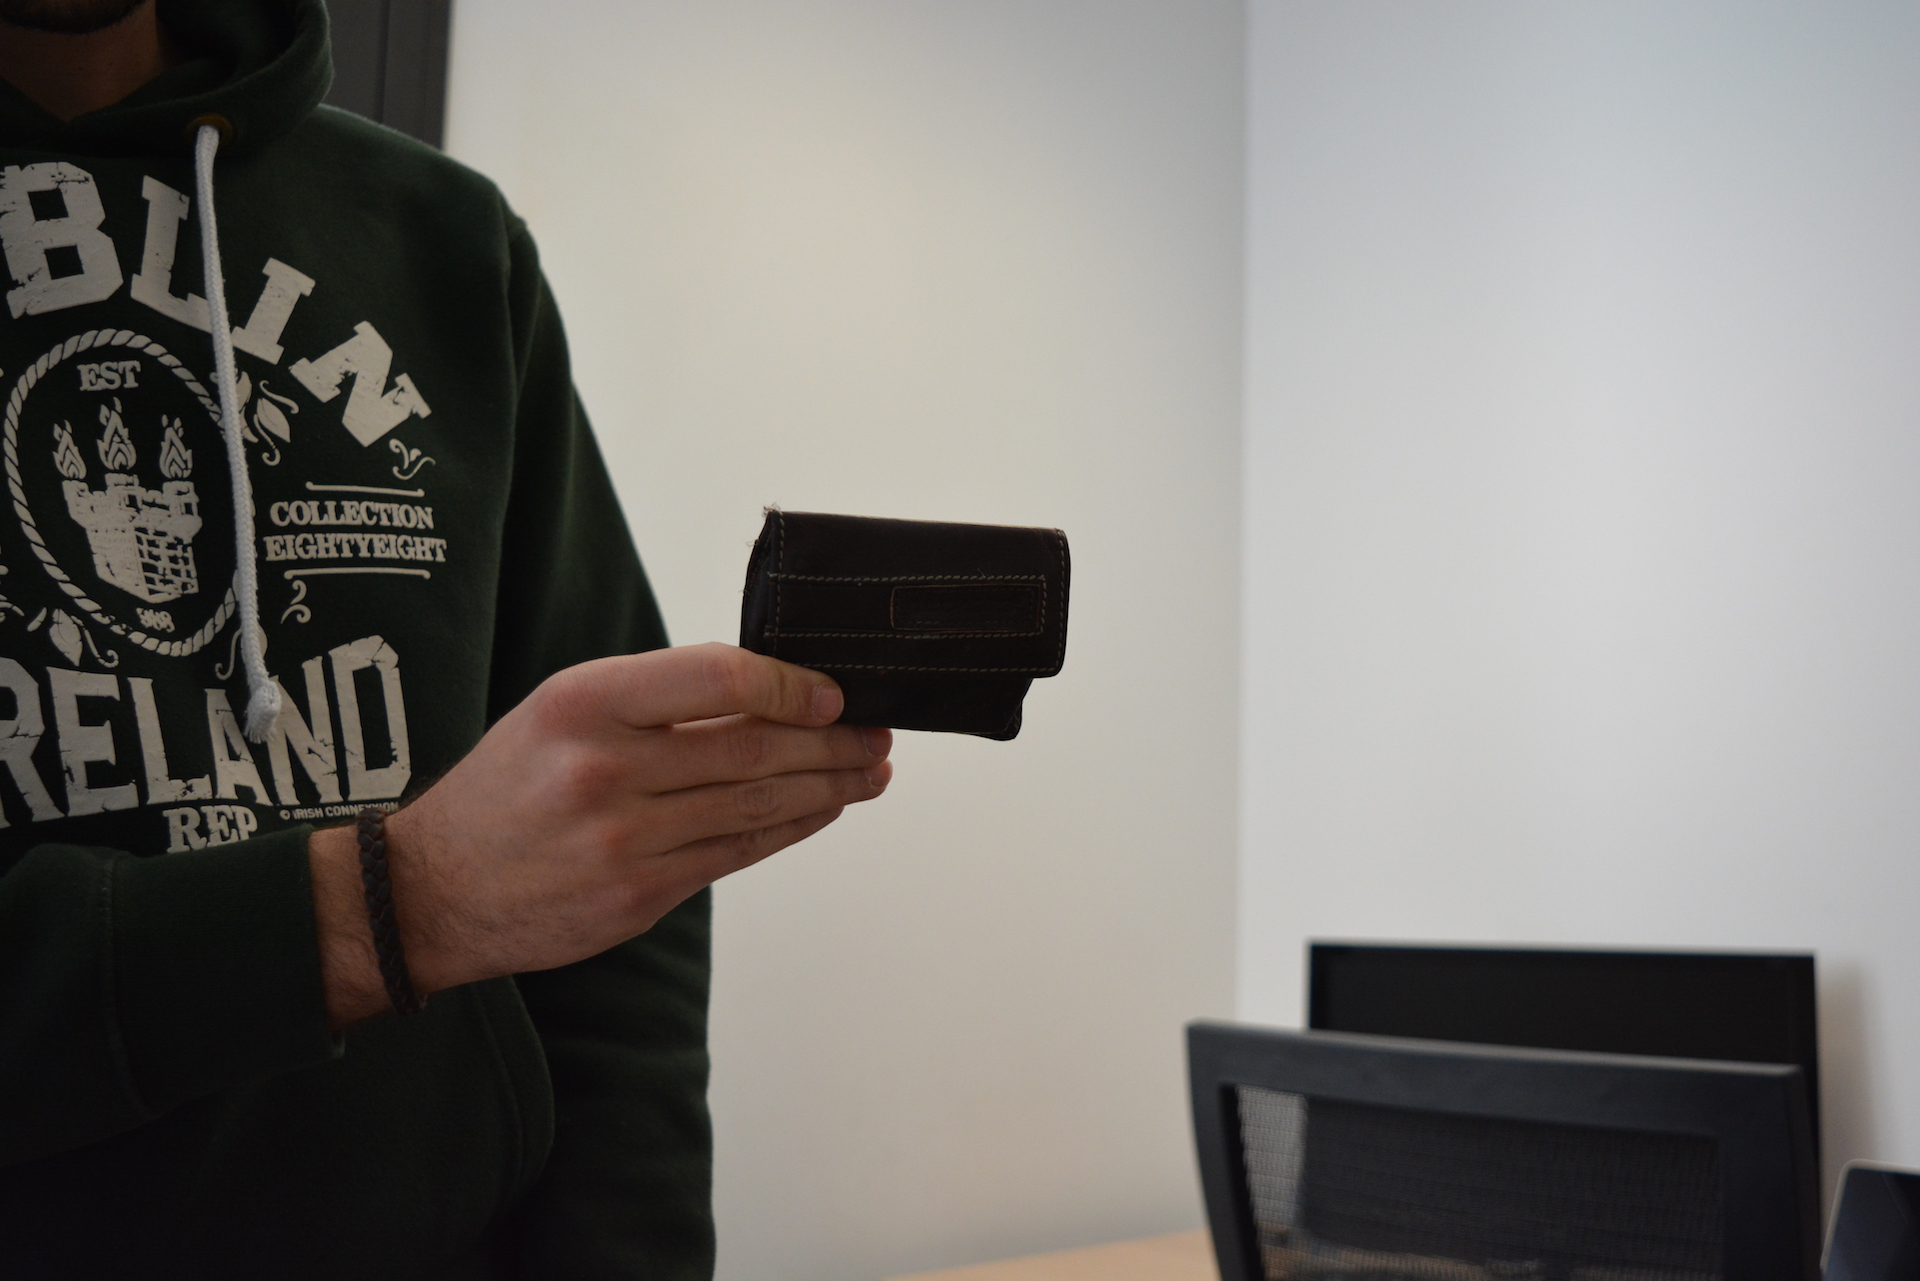monedero: (736, 508, 1074, 743)
